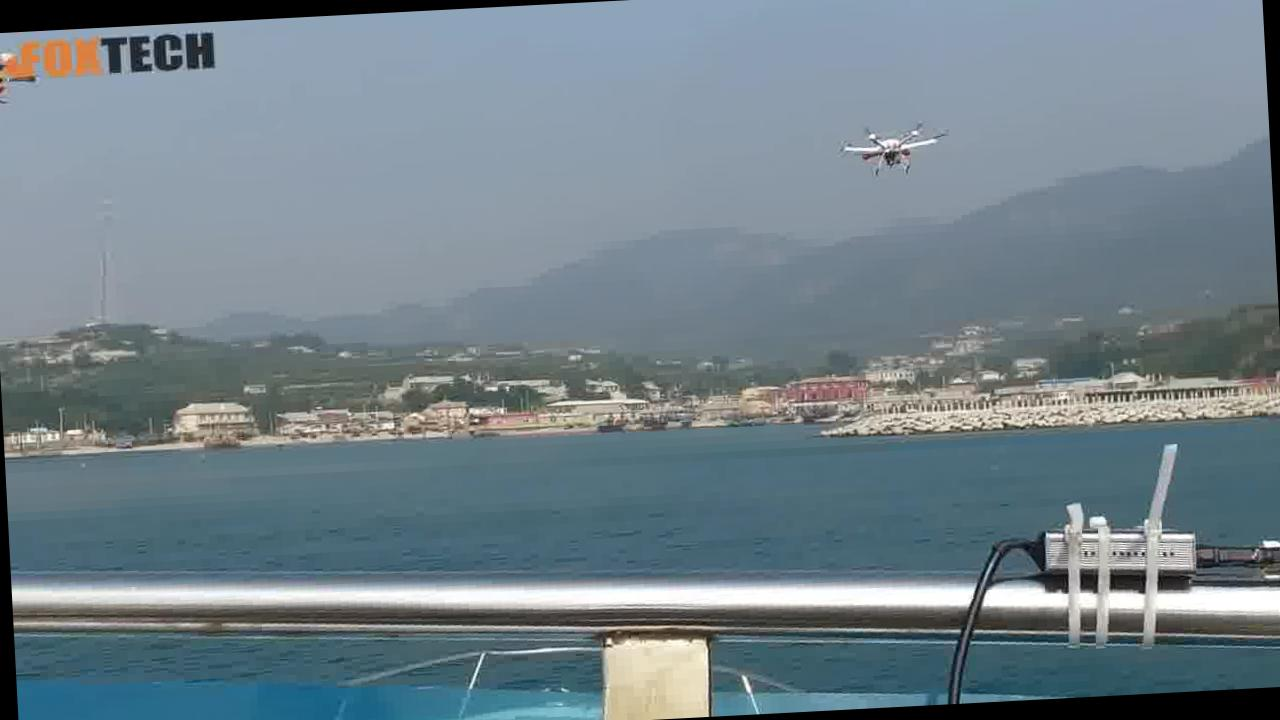drone: (826, 116, 958, 186)
